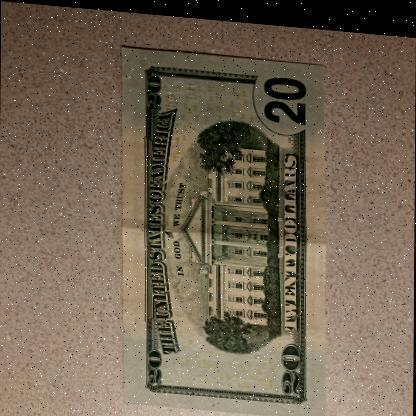twenty-back: (120, 42, 328, 412)
